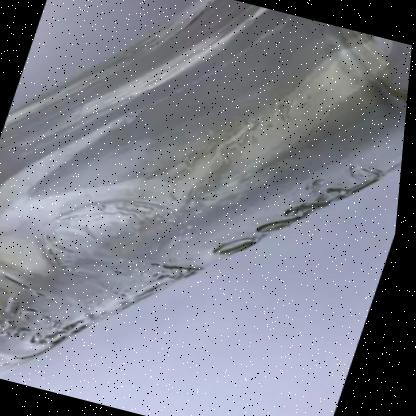Glass: (0, 0, 413, 378)
